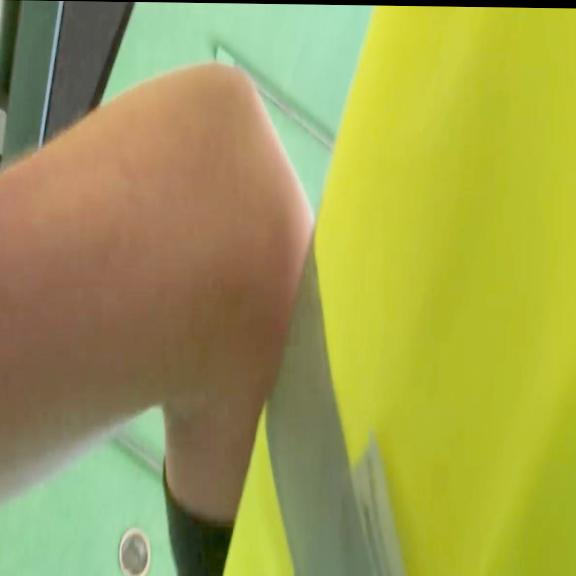safety_vest: (213, 3, 576, 576)
